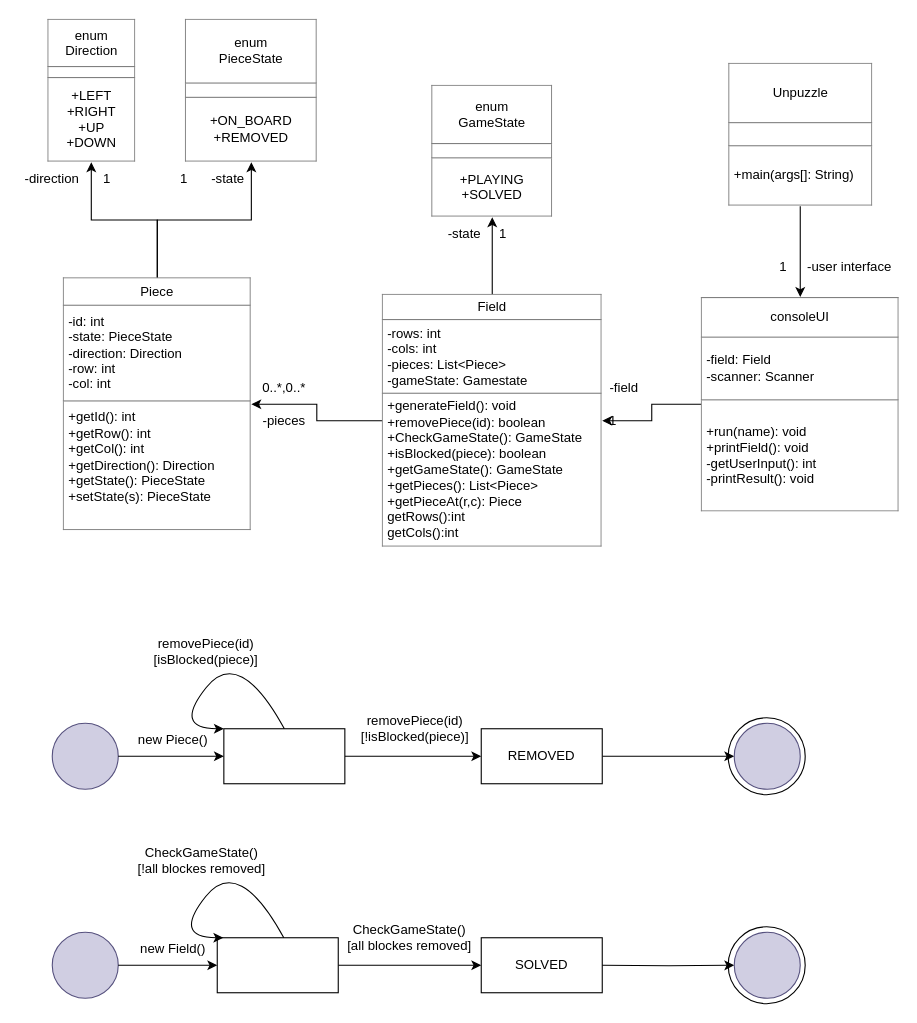
This 917x1023 diagram has some shape labels left out. Here are the shapes that lost their labels. From the top down, the centre of each, then its label:
At (x=284, y=756): "ON_BOARD".
At (x=277, y=965): "PLAYING".
